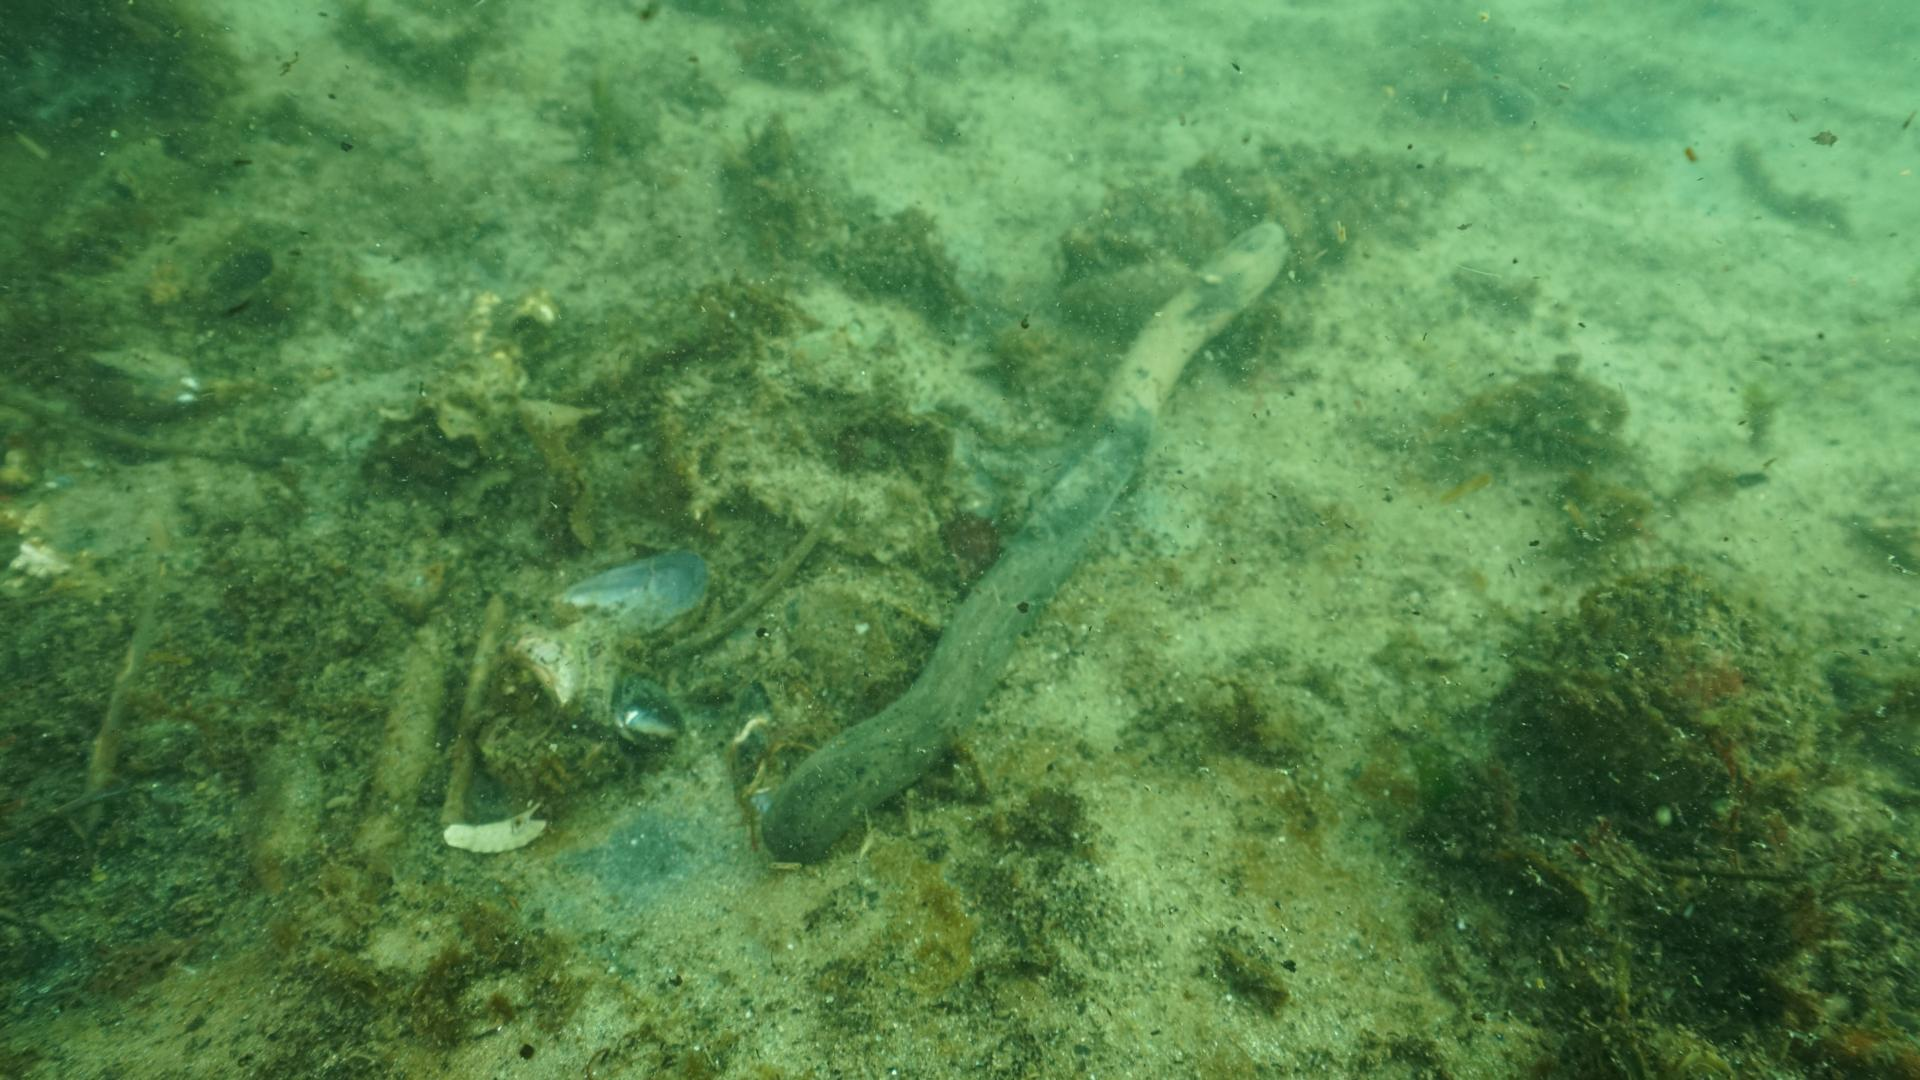wood: (758, 219, 1288, 865)
